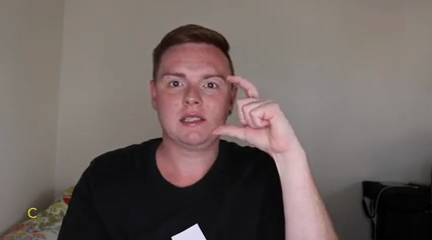C: (207, 74, 299, 159)
